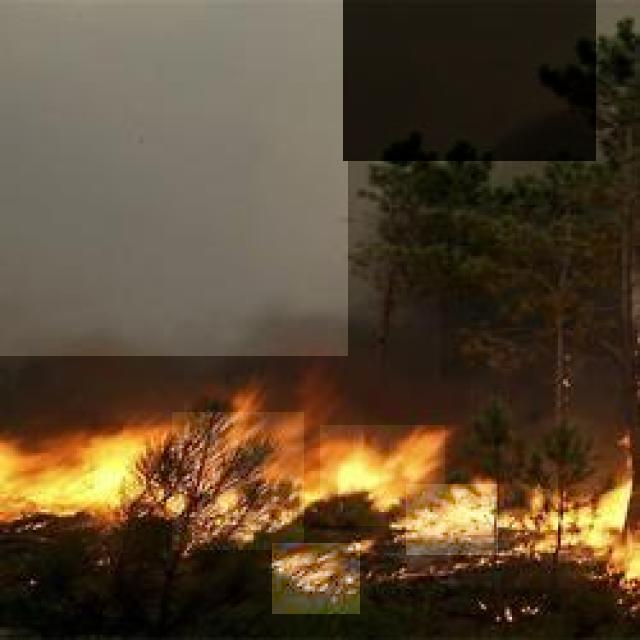Fire: (172, 412, 304, 550), (0, 424, 164, 528), (498, 484, 640, 588), (320, 425, 445, 526), (406, 484, 508, 555), (272, 543, 360, 614)
Smoke: (0, 0, 348, 356), (343, 0, 596, 161)
